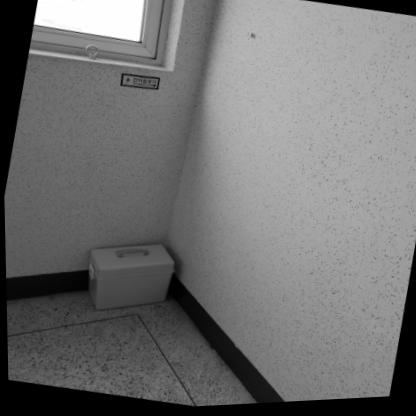DDL: (76, 229, 178, 324)
